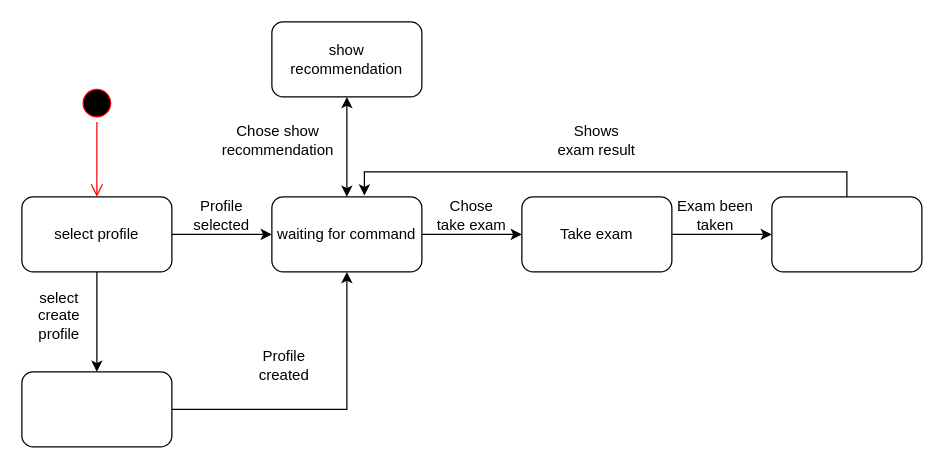
Some shapes in this 944 by 469 pixel diagram are drawn without their labels. The centre of each missing label's shape, as x and y in pixels:
create profile: pixel 96 409
show exam result: pixel 846 234
